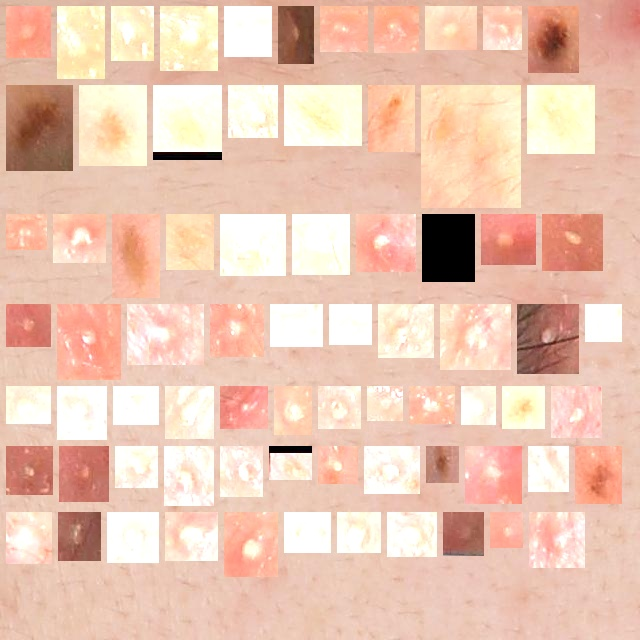melasma: (429, 93, 513, 200), (87, 93, 139, 158), (161, 93, 214, 152), (292, 93, 354, 138), (535, 93, 587, 146), (120, 222, 152, 290), (376, 93, 407, 144), (174, 222, 206, 262), (510, 394, 537, 421), (277, 454, 304, 472)
nevus: (14, 93, 65, 163), (536, 14, 571, 65), (583, 454, 614, 496), (434, 454, 451, 475)
pustule: (65, 312, 113, 372), (448, 312, 503, 362), (135, 312, 196, 357), (525, 312, 571, 366), (228, 222, 278, 268), (168, 14, 210, 63), (430, 222, 467, 274), (300, 222, 342, 267), (232, 520, 270, 569), (364, 222, 408, 264), (550, 222, 595, 263), (65, 14, 97, 71), (473, 454, 514, 496), (537, 520, 577, 560), (386, 312, 426, 350), (172, 454, 206, 498), (218, 312, 256, 349), (489, 222, 528, 257), (67, 454, 101, 494), (65, 394, 99, 432), (372, 454, 412, 486), (559, 394, 594, 430), (115, 520, 151, 555), (236, 93, 270, 130), (61, 222, 98, 255), (173, 394, 206, 431), (173, 520, 210, 553), (232, 14, 264, 49), (119, 14, 146, 53), (14, 14, 43, 50), (14, 454, 45, 487), (433, 14, 469, 42), (278, 312, 315, 339), (395, 520, 429, 549), (328, 14, 360, 44), (228, 454, 255, 489), (382, 14, 411, 45), (66, 520, 93, 553), (228, 394, 260, 421), (286, 14, 306, 56), (14, 312, 43, 339), (292, 520, 323, 545), (536, 454, 561, 484), (326, 394, 353, 421), (282, 394, 304, 427), (123, 454, 150, 480), (345, 520, 373, 545), (451, 520, 476, 548), (121, 394, 151, 417), (337, 312, 364, 337), (417, 394, 447, 416), (491, 14, 514, 42), (14, 394, 43, 416), (326, 454, 350, 476), (14, 222, 39, 242), (593, 312, 614, 334), (469, 394, 488, 417), (375, 394, 395, 413), (498, 520, 515, 540)
